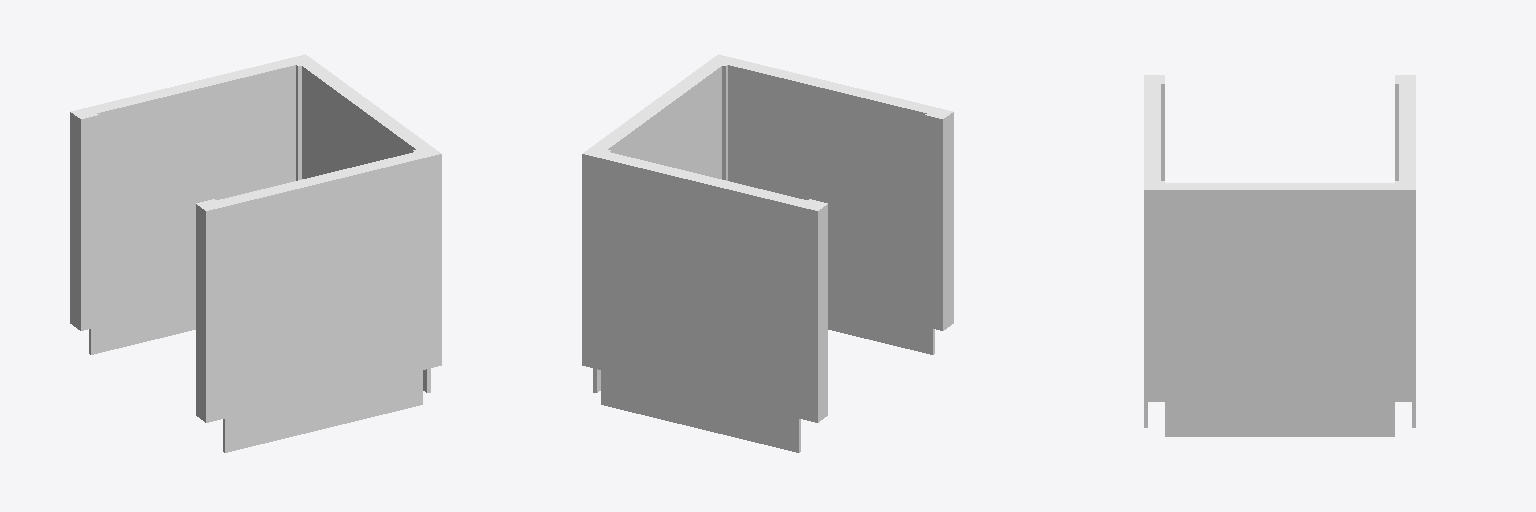
File: Wall-1011.obj
3 renders of one model, left to right at view 1: azimuth 30°, elevation 25°; view 2: azimuth 150°, elevation 25°; view 3: azimuth 270°, elevation 25°, orthographic.
Size of the model in its own units: 64 by 64 by 64.